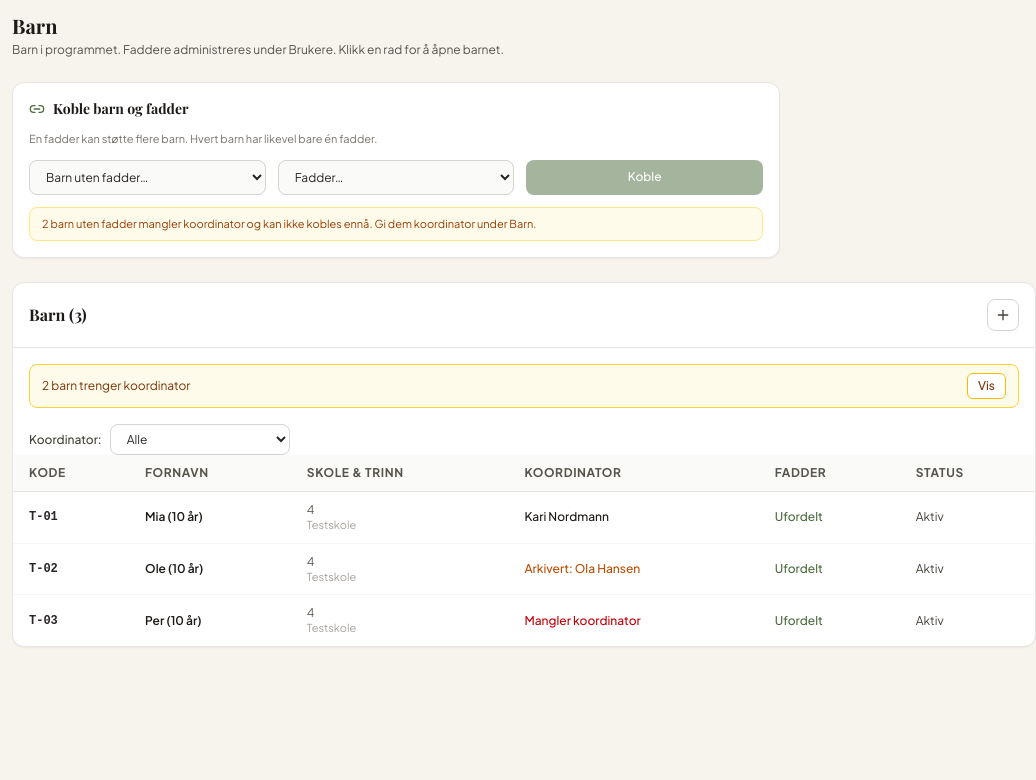
Test: Barn-siden: koordinatorkolonne og filter › viser infolinje med antall og filtrerer til barn uten gyldig koordinator med Vis
This screenshot has width=1036, height=780.
Expected: the text "2 barn trenger koordinator" is shown, x1=42 y1=378 x2=190 y2=394
Click the button "Vis" at [986, 386], box x1=967 y1=373 x2=1006 y2=399
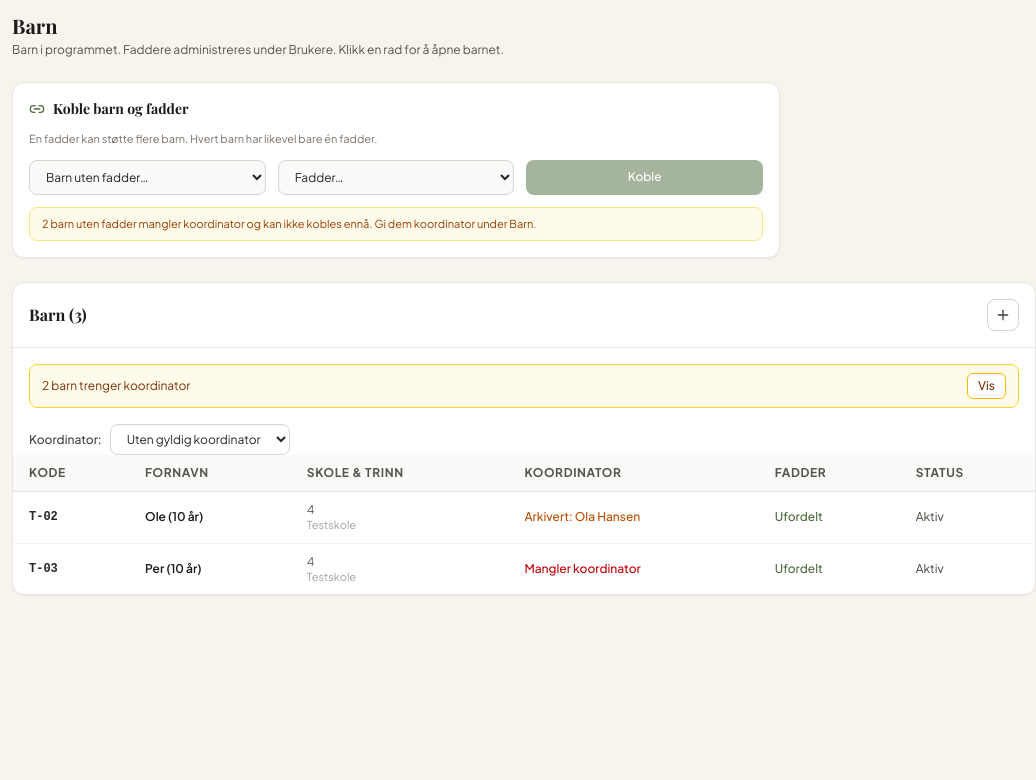
Expected: the text "T-02" is shown, x1=13 y1=492 x2=129 y2=543
Result: the text "T-01" is gone
